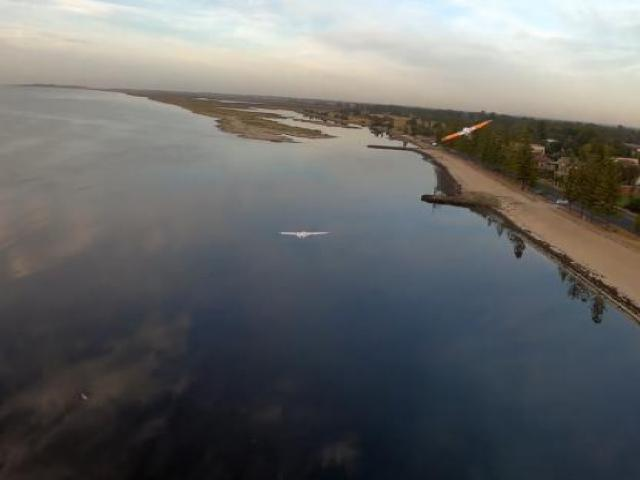uav: (441, 117, 492, 151), (276, 225, 330, 243)
